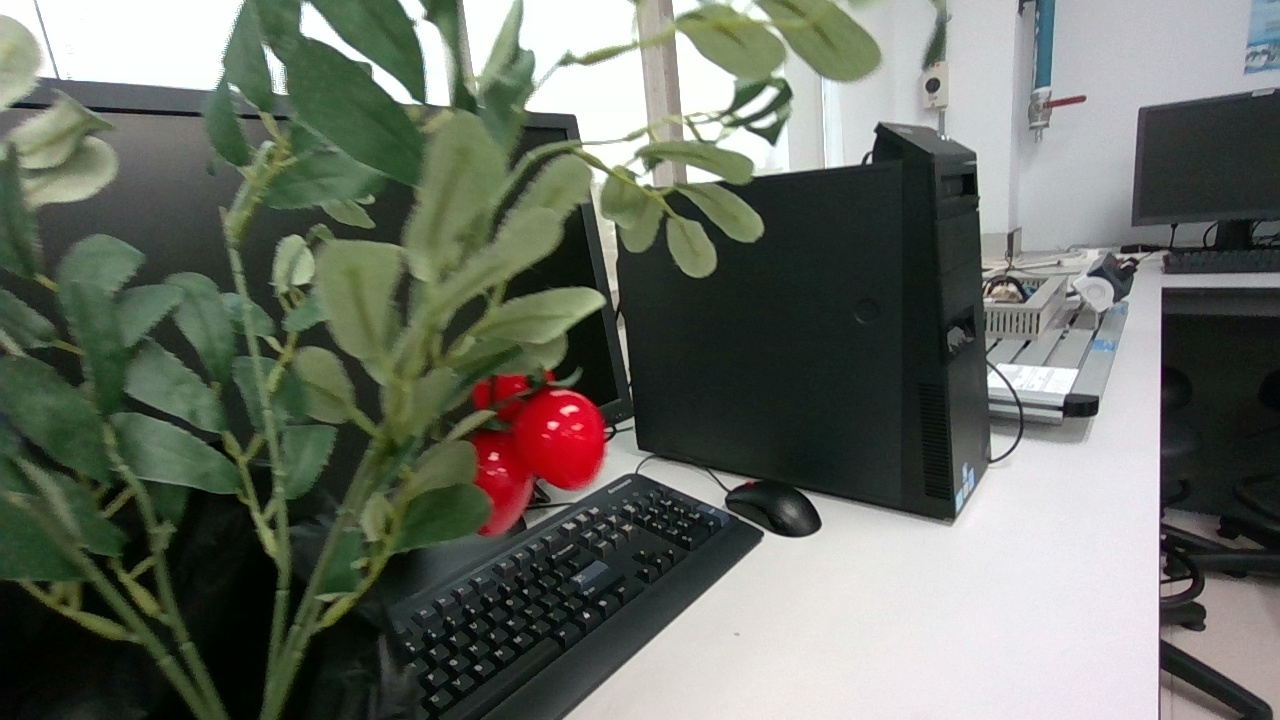strawberry: (512, 388, 606, 490), (471, 430, 535, 536)
